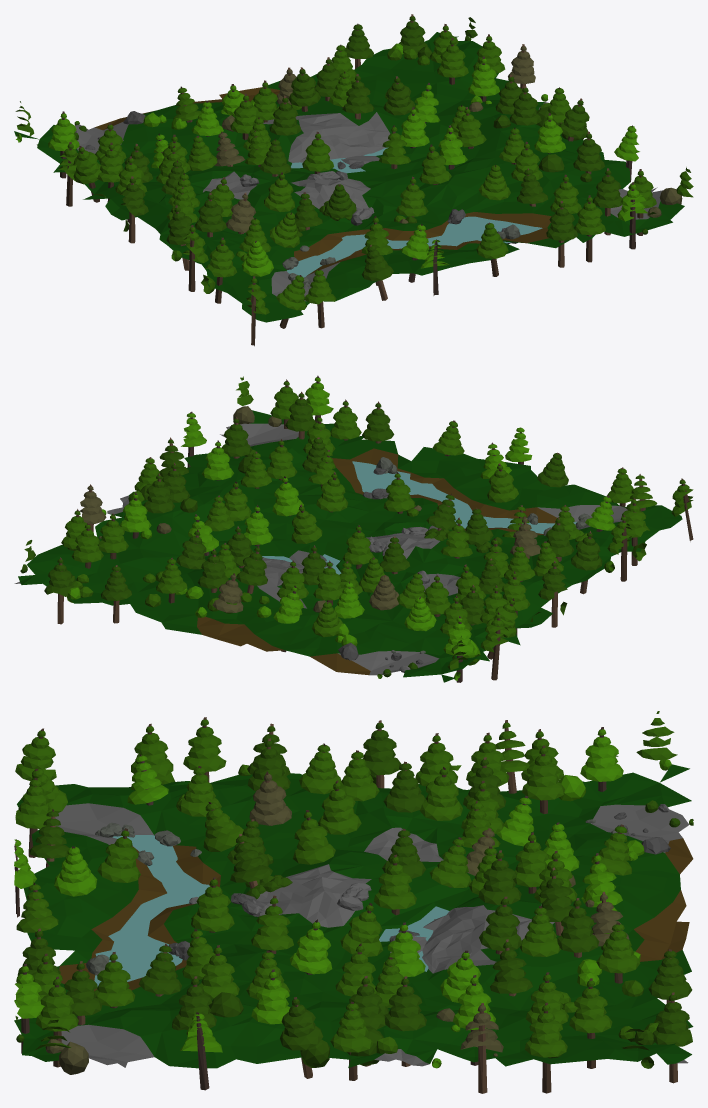
The model's file is forest.glb.
3 renders of one model, top to bottom at view 1: azimuth 30°, elevation 25°; view 2: azimuth 150°, elevation 25°; view 3: azimuth 270°, elevation 25°, orthographic. The views are drawn at different scales.
Parts seen in each view (by area): view 1: Trees.001, ForestGround.001, Bushes.001, Water.001, Rocks.001; view 2: Trees.001, ForestGround.001, Bushes.001, Water.001, Rocks.001; view 3: Trees.001, ForestGround.001, Bushes.001, Water.001, Rocks.001.
Boxes of the visible parts, left/top/right/bottom form: Trees.001: left=15, top=14, right=693, bottom=346; ForestGround.001: left=14, top=32, right=684, bottom=322; Bushes.001: left=16, top=35, right=682, bottom=293; Water.001: left=287, top=147, right=542, bottom=277; Rocks.001: left=75, top=111, right=520, bottom=287; Trees.001: left=24, top=375, right=693, bottom=682; ForestGround.001: left=14, top=410, right=682, bottom=682; Bushes.001: left=20, top=406, right=646, bottom=680; Water.001: left=262, top=461, right=576, bottom=574; Rocks.001: left=320, top=457, right=591, bottom=672; Trees.001: left=14, top=711, right=692, bottom=1093; ForestGround.001: left=14, top=764, right=693, bottom=1068; Bushes.001: left=16, top=759, right=693, bottom=1074; Water.001: left=94, top=835, right=449, bottom=986; Rocks.001: left=86, top=804, right=670, bottom=975.
Bounding box in the file's own units: 143 × 25.36 × 140.
Materials: 1 (1 with a texture image).
